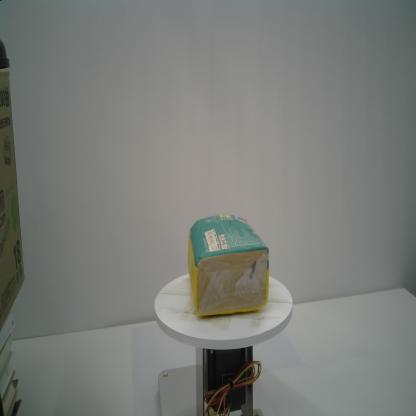Tissue: (186, 213, 272, 317)
